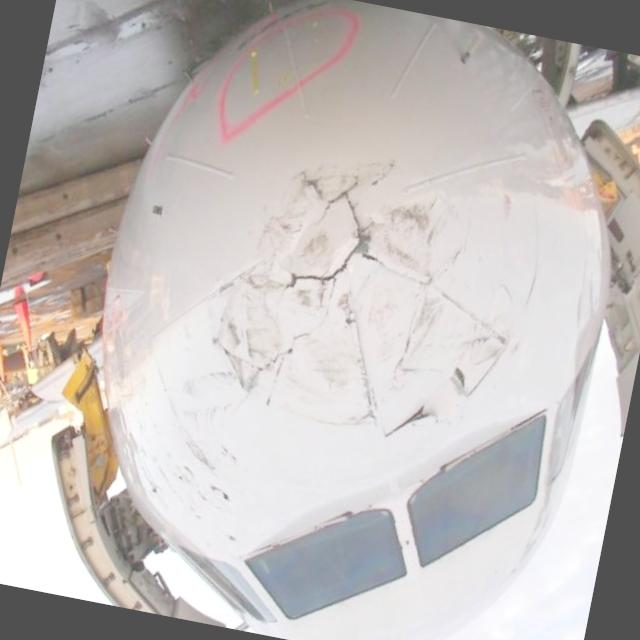crack: (195, 136, 538, 463)
